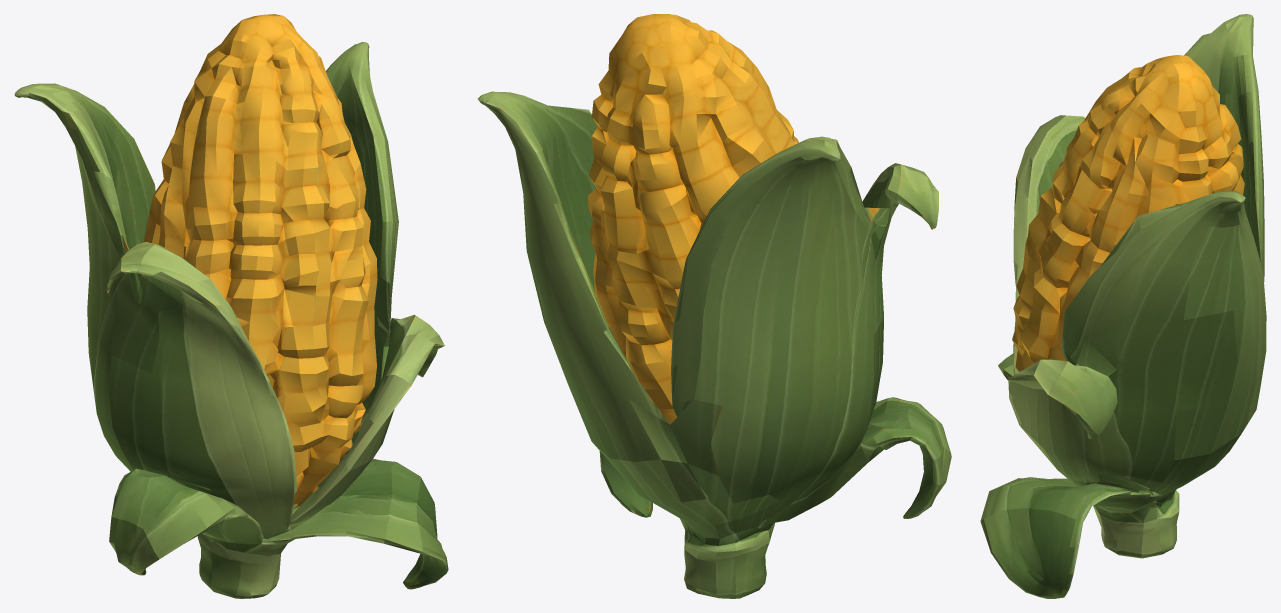
Rendered from misir.glb.
3 renders of one model, left to right at view 1: azimuth 30°, elevation 25°; view 2: azimuth 150°, elevation 25°; view 3: azimuth 270°, elevation 25°, orthographic. The views are drawn at different scales.
Parts seen in each view (by area): view 1: Mesh0; view 2: Mesh0; view 3: Mesh0.
Part boxes in pixels (box(x1,y1,x2,y2)): Mesh0: box(14, 14, 448, 598); Mesh0: box(477, 14, 951, 598); Mesh0: box(980, 14, 1266, 598).
Bounding box in the file's own units: 1.25 × 1.88 × 0.9582.
1 material, 1 textured.
